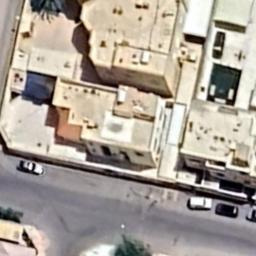SUV: (188, 196, 212, 210)
sedan: (16, 158, 45, 176), (214, 202, 238, 218)
